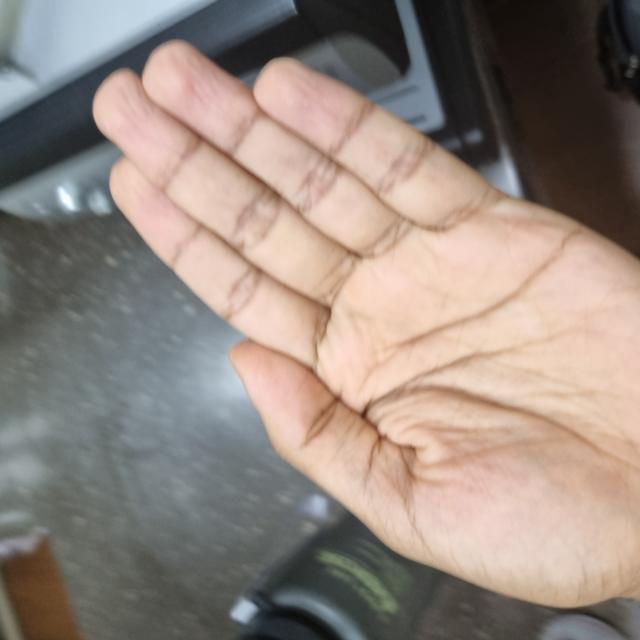Paper: (30, 96, 597, 639)
